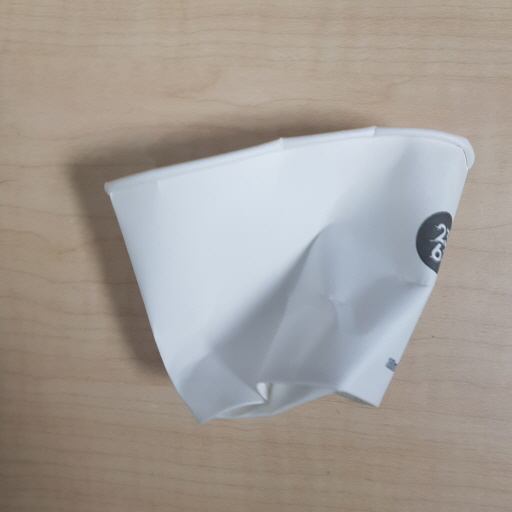Paper_1: (102, 124, 477, 422)
